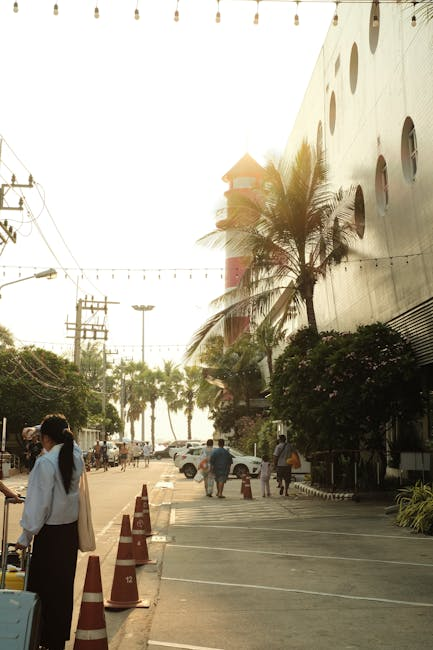traffic_cone: (103, 514, 150, 612), (72, 555, 109, 650), (131, 496, 157, 566), (139, 483, 158, 536), (241, 475, 253, 500), (240, 474, 247, 495)
